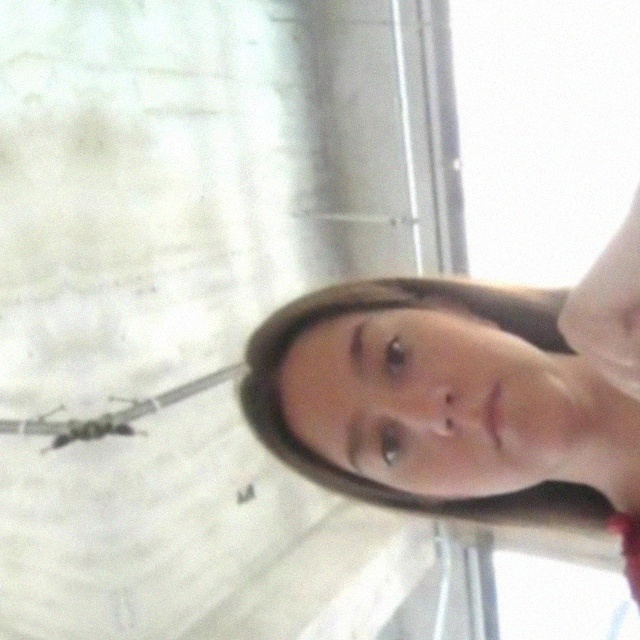Rock: (492, 163, 640, 509)
